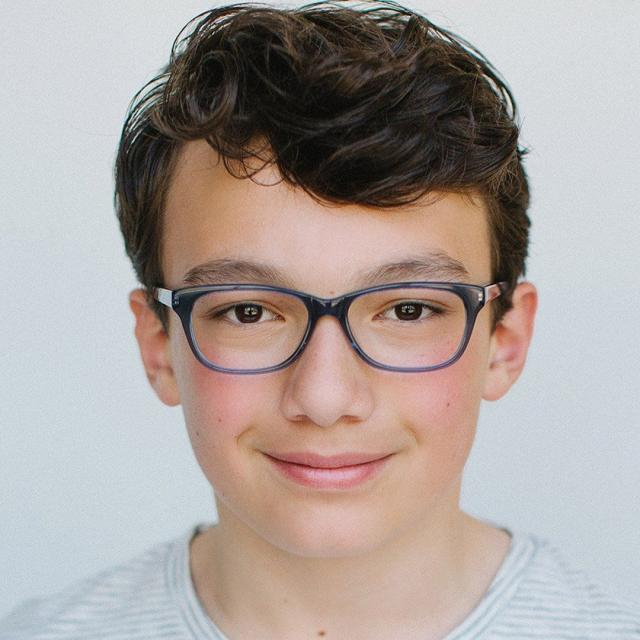Glasses: (146, 278, 516, 378)
